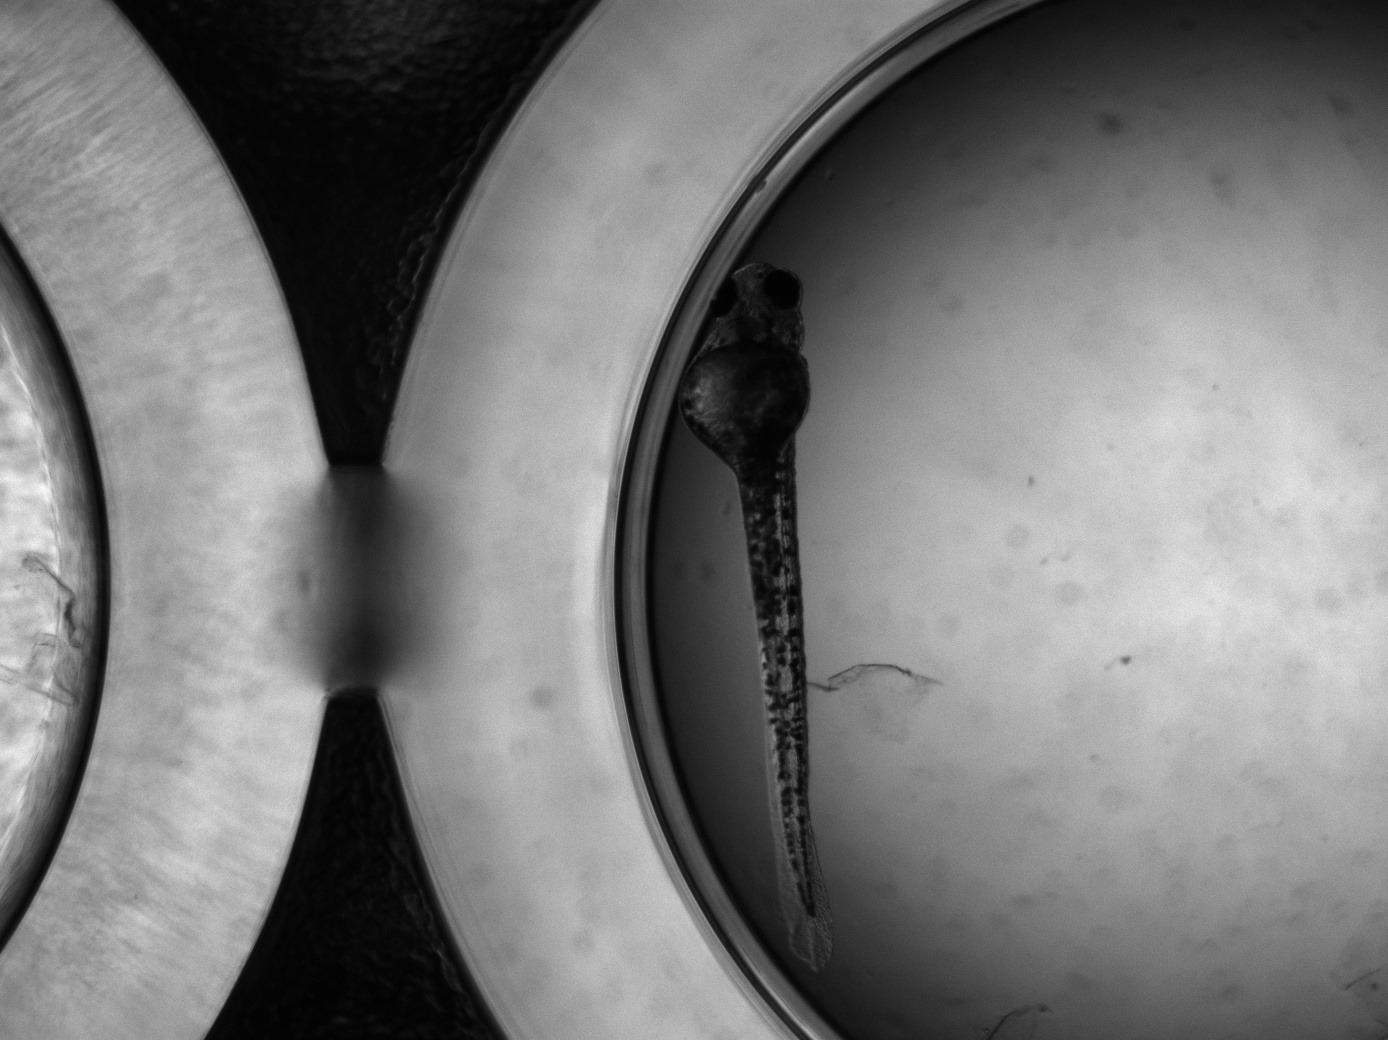embryo: (676, 262, 821, 919)
eye: (763, 270, 802, 312), (709, 276, 740, 317)
yolksac: (678, 338, 811, 462)
